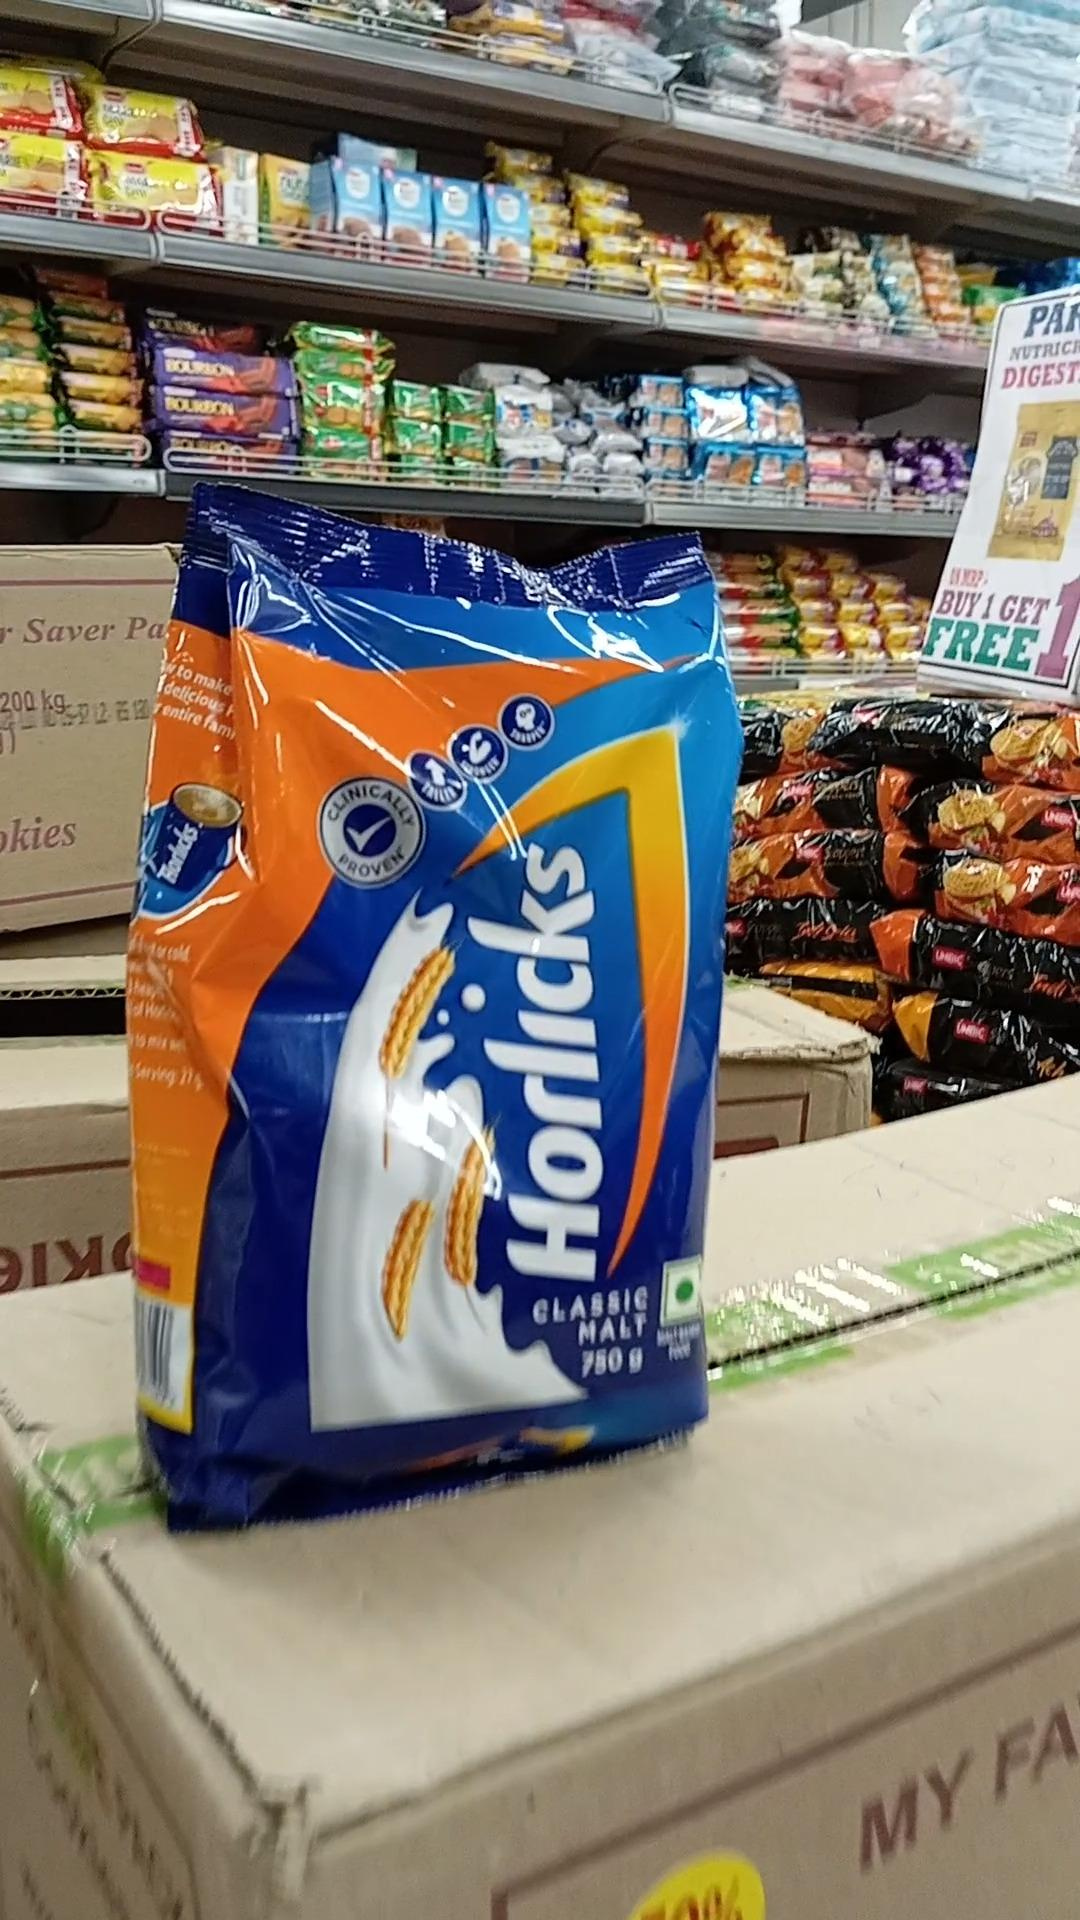HORLICK_CLASSIC_MALT_750_G_POUCH: (182, 495, 727, 1453)
